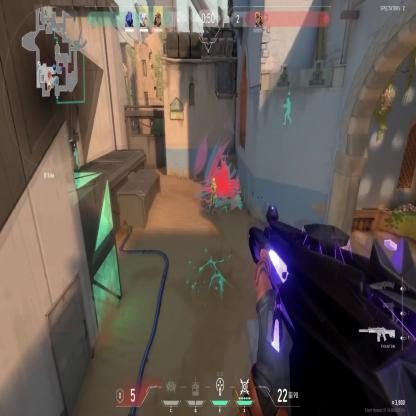enemy: (211, 176, 217, 216)
enemy_head: (212, 178, 215, 185)
